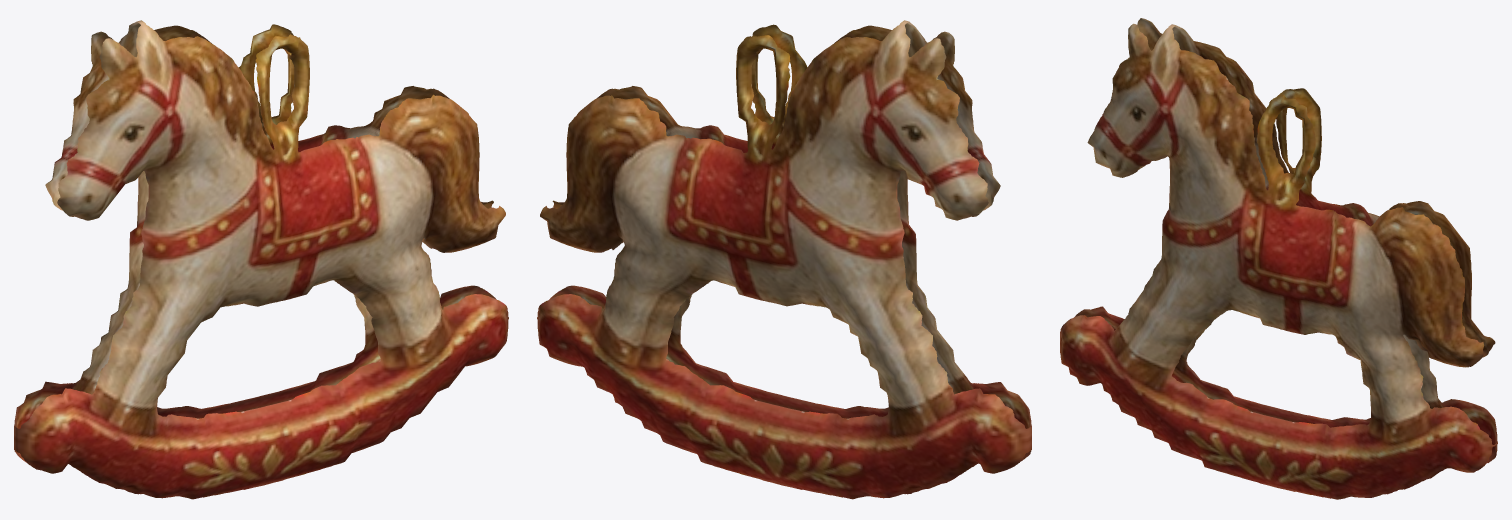
The model's file is Item_horse.glb.
3 views of the same model, side by side, from view 1: azimuth 30°, elevation 25°; view 2: azimuth 150°, elevation 25°; view 3: azimuth 330°, elevation 25° (orthographic). The views are drawn at different scales.
Parts seen in each view (by area): view 1: Item_horse carving; view 2: Item_horse carving; view 3: Item_horse carving.
Boxes of the visible parts, x1,y1,x2,y2 form: Item_horse carving: (14, 20, 508, 499); Item_horse carving: (537, 20, 1031, 499); Item_horse carving: (1060, 18, 1497, 499).
Size of the model in its own units: 0.4131 by 0.395 by 0.062.
Materials: 1 (1 with a texture image).
